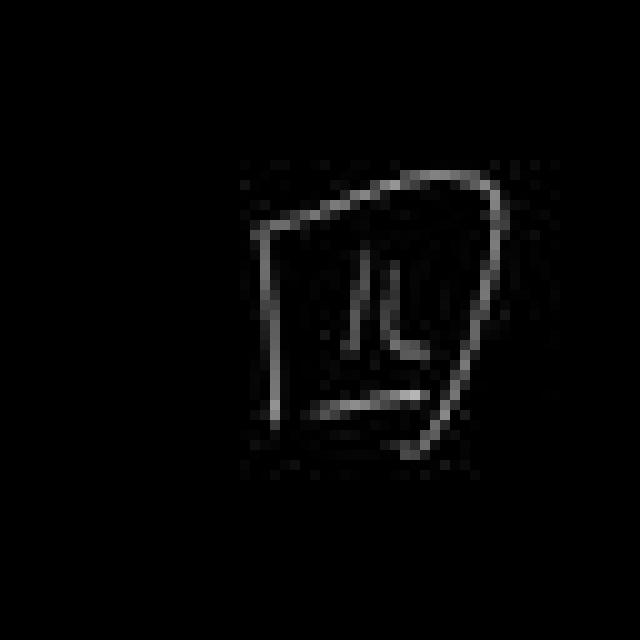4 -four-: (241, 157, 514, 466)
